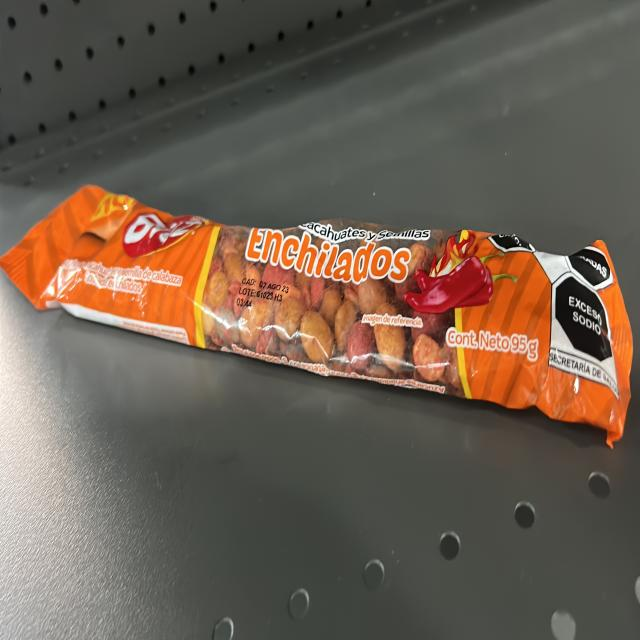bitzEnchilado95: (53, 205, 622, 375)
